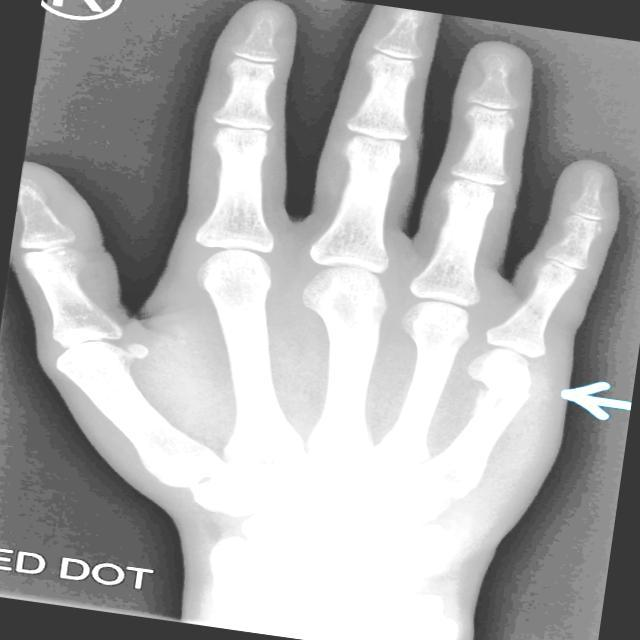Comminuted Fracture: (466, 367, 514, 421)
